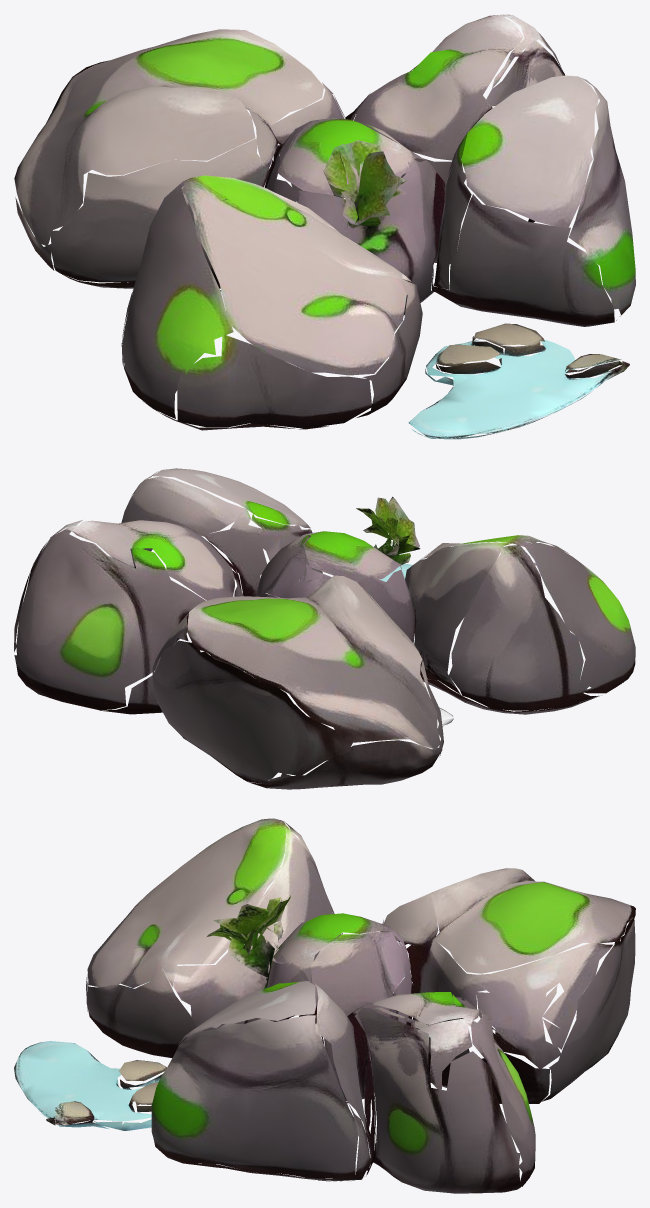
File: gol_kaya.glb
3 views of the same model, one above another, from view 1: azimuth 30°, elevation 25°; view 2: azimuth 150°, elevation 25°; view 3: azimuth 270°, elevation 25° (orthographic). The views are drawn at different scales.
Visible parts, largest first — view 1: geometry_0; view 2: geometry_0; view 3: geometry_0.
Boxes of the visible parts, bbox=[...] form: geometry_0: bbox=[14, 14, 635, 439]; geometry_0: bbox=[14, 468, 635, 789]; geometry_0: bbox=[14, 818, 635, 1193].
Size of the model in its own units: 0.9531 by 0.3196 by 0.996.
1 material, 1 textured.
